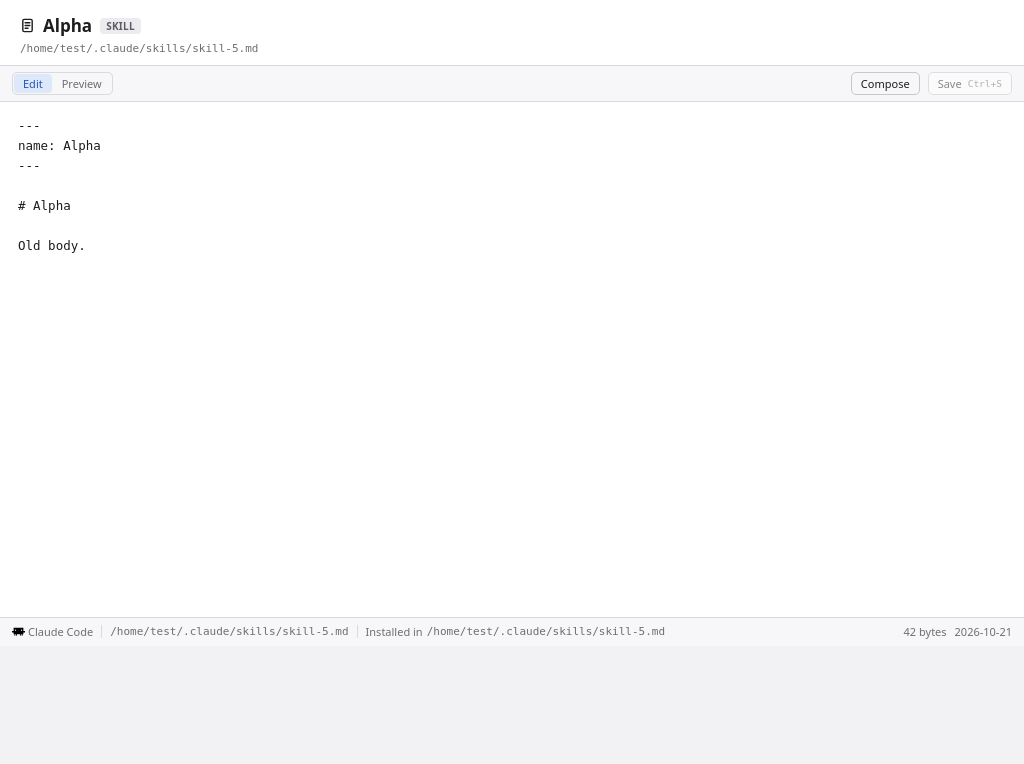
Test: SkillEditor compose integration (T16 part B) › opens the compose panel from the detail editor
The image size is (1024, 764).
Click the button with aria-label "Compose with AI": (885,84) [851, 72, 920, 95]
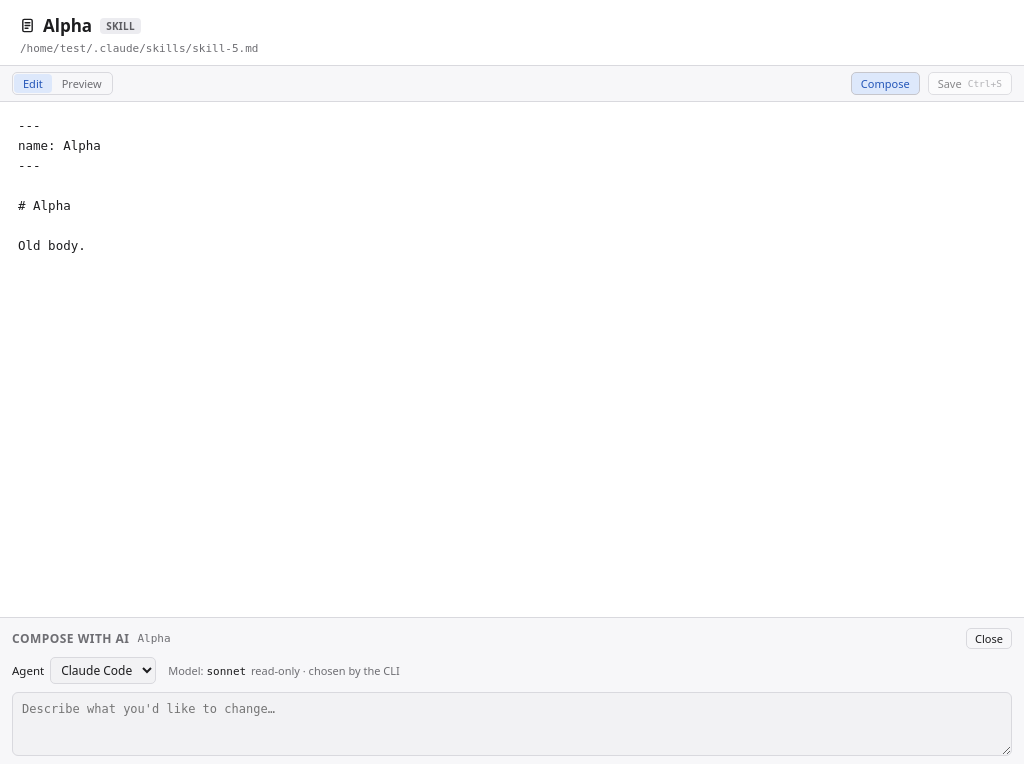
Expected: the dropdown labelled "Agent" is shown, [50, 657, 156, 684]
